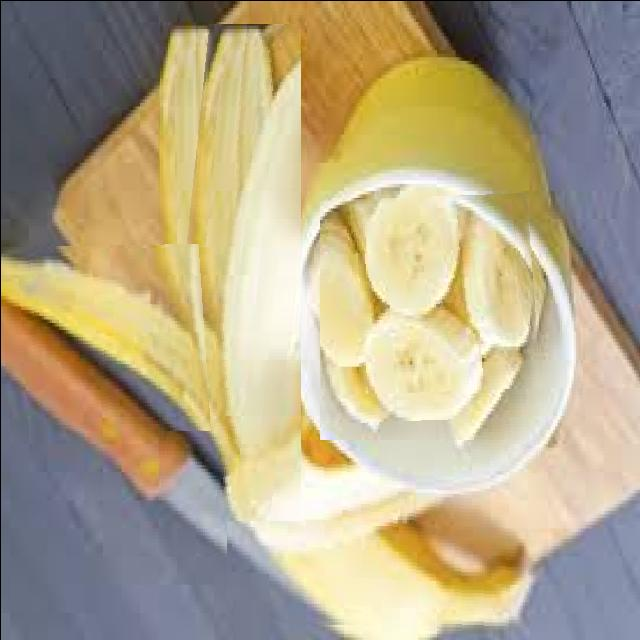Organic: (157, 23, 300, 520), (226, 438, 540, 632), (319, 192, 544, 440), (0, 243, 210, 430)
